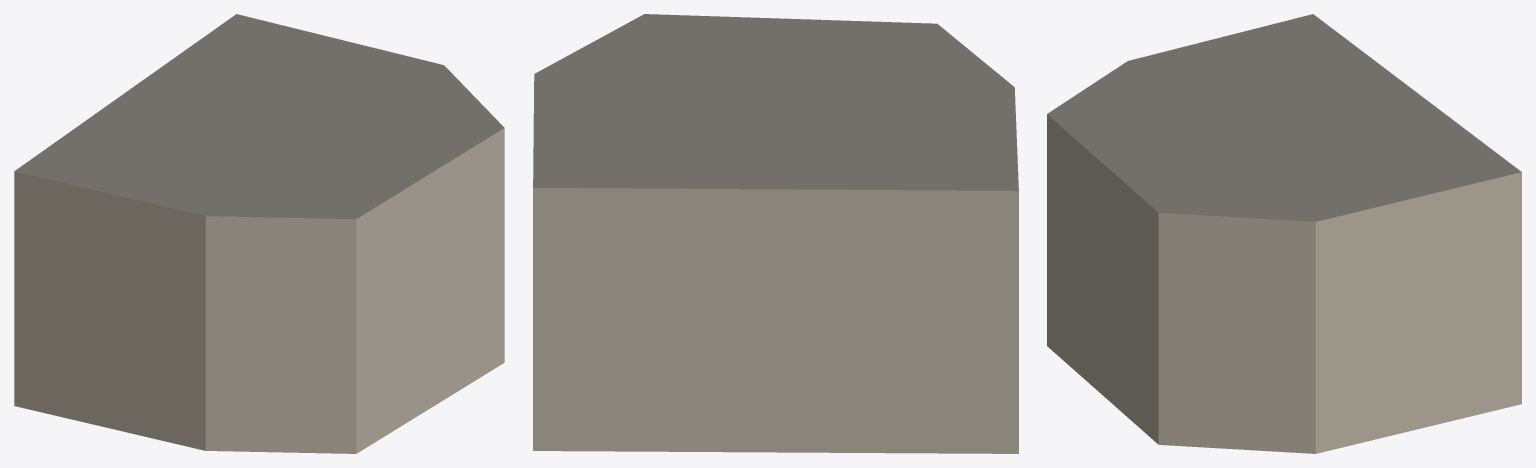
3 views of the same model, side by side, from view 1: azimuth 30°, elevation 25°; view 2: azimuth 150°, elevation 25°; view 3: azimuth 270°, elevation 25° (orthographic). The views are drawn at different scales.
Visible parts, largest first — view 1: HP-w1287260669; view 2: HP-w1287260669; view 3: HP-w1287260669.
Part boxes in pixels (x1,y1,x2,y2): HP-w1287260669: [14, 14, 504, 453]; HP-w1287260669: [533, 14, 1018, 453]; HP-w1287260669: [1047, 14, 1521, 453].
Bounding box in the file's own units: 34.6 × 18 × 33.4.
